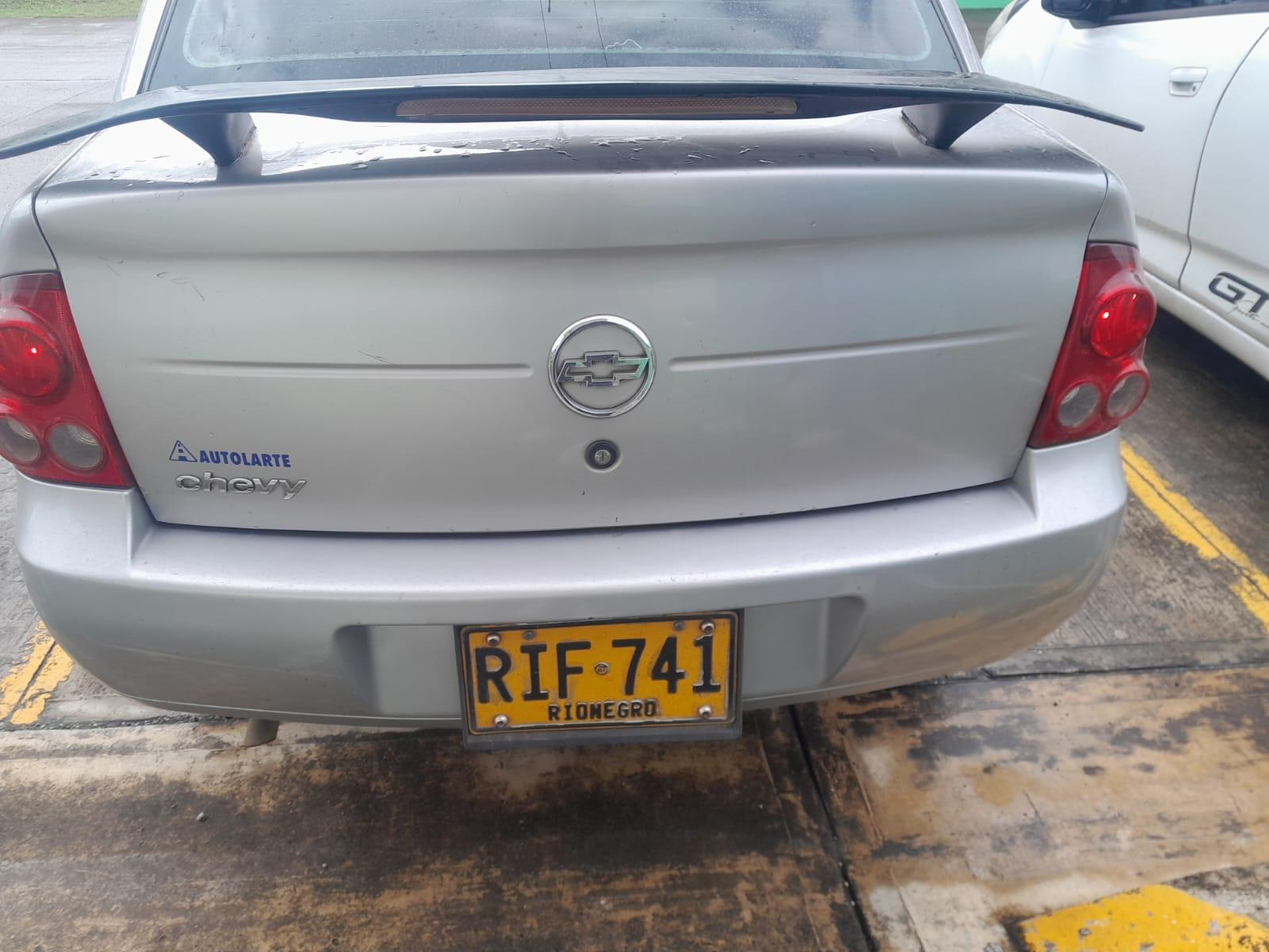placa: (458, 612, 740, 739)
